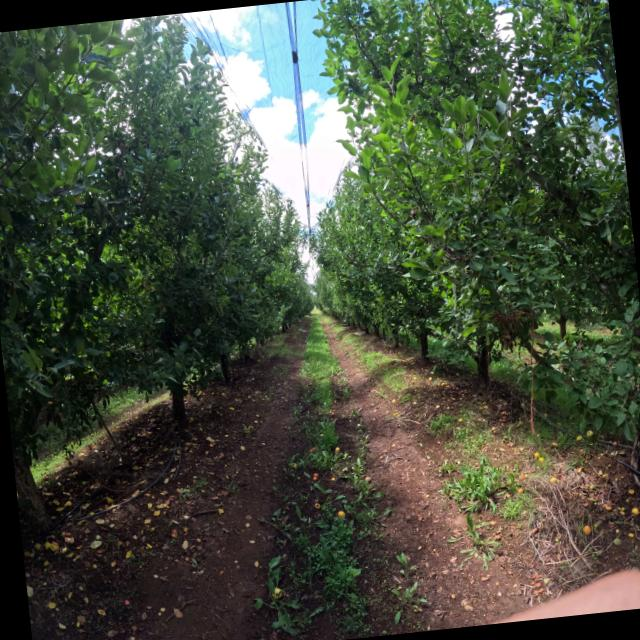-FireBlight-: (494, 311, 521, 352)
